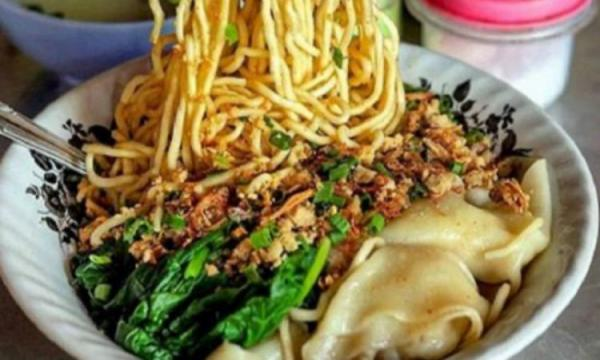Mie: (84, 78, 523, 332)
